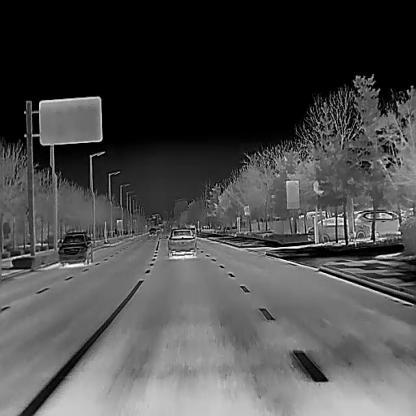car: (307, 216, 370, 242), (353, 208, 407, 238), (58, 231, 92, 265), (167, 228, 196, 257), (148, 226, 156, 236), (189, 226, 196, 234)
